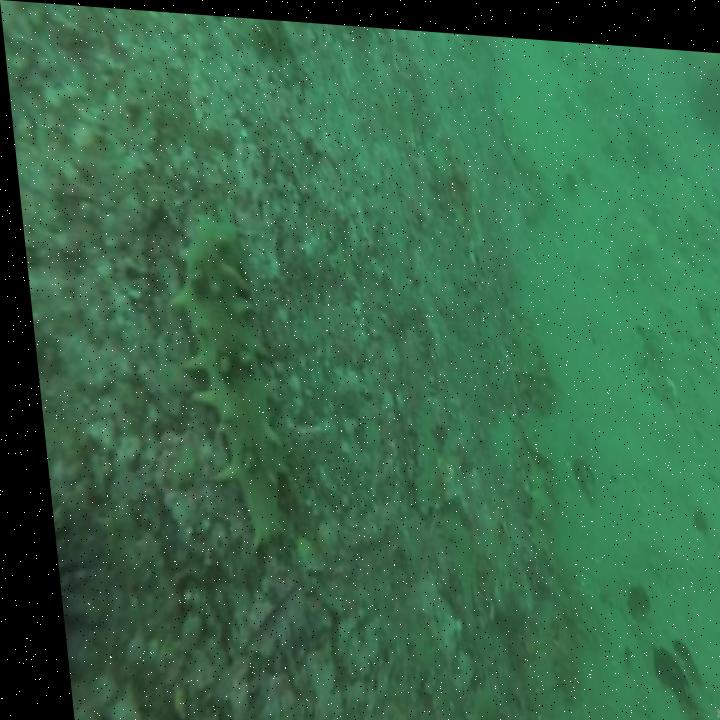echinus: (685, 54, 720, 127)
holothurian: (158, 202, 292, 551), (512, 541, 597, 649), (488, 285, 553, 409), (389, 382, 441, 521), (509, 419, 554, 556), (532, 595, 568, 700), (445, 663, 501, 720)
